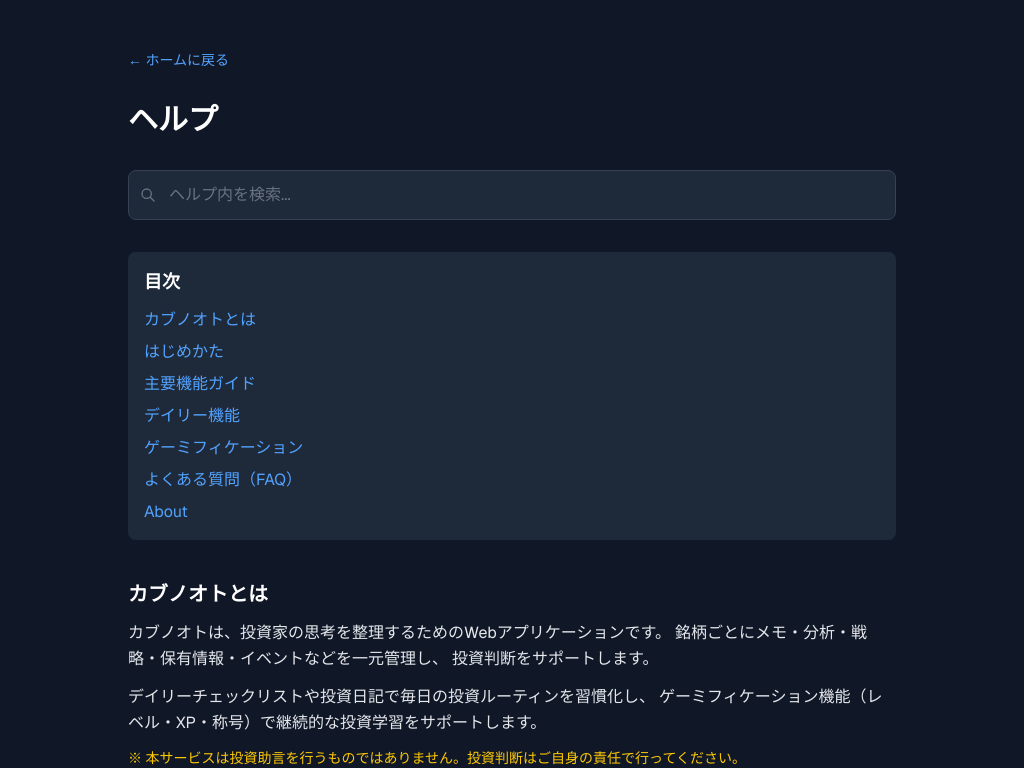
Test: HelpPage › 検索中は目次・カブノオトとは・はじめかた・Aboutが非表示になる
This screenshot has width=1024, height=768.
Type "アラート" into the field with placeholder "ヘルプ内を検索..." at (512, 195), box left=128, top=170, right=896, bottom=220
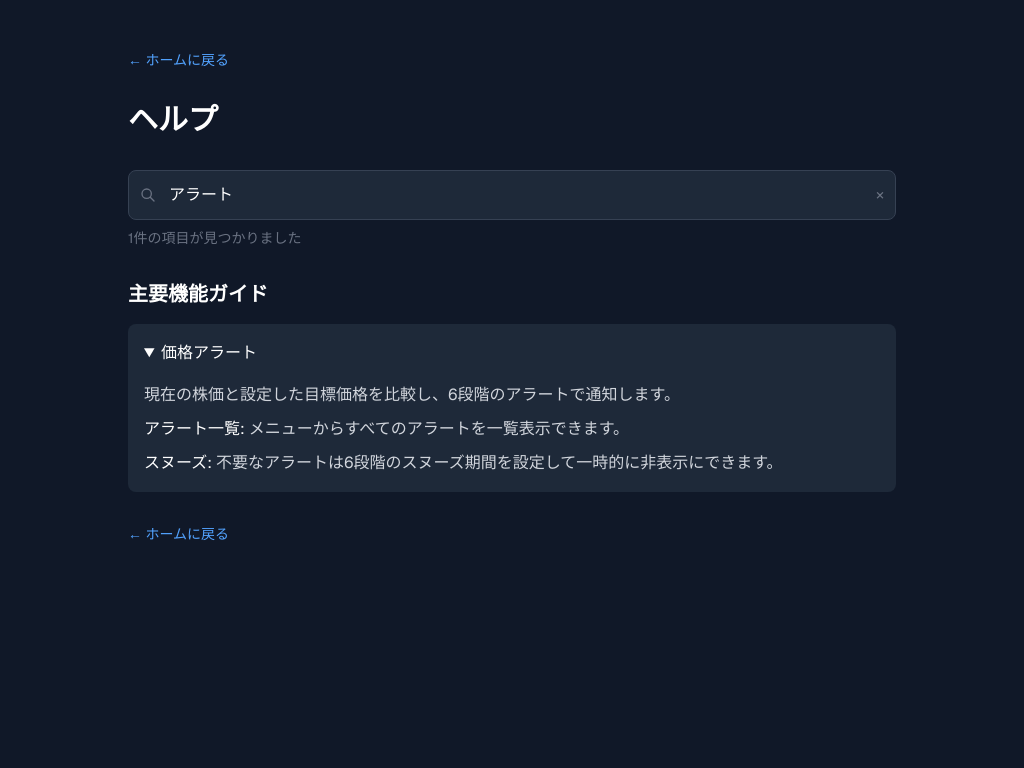
Expected: the heading "目次" is gone
Expected: the link "About" is gone
